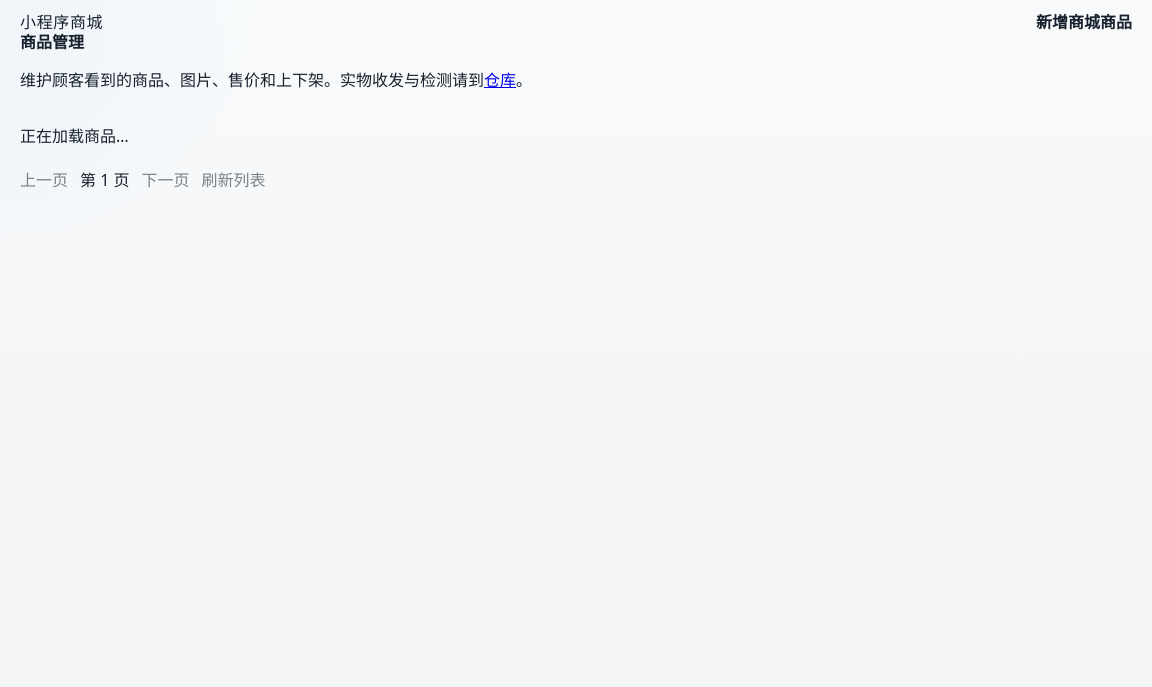
Scenario: 上架缺图给出提示，图片尺寸说明随上传控件显示
Click the button "新增商城商品" at x=1084, y=21, box [1036,9,1132,33]
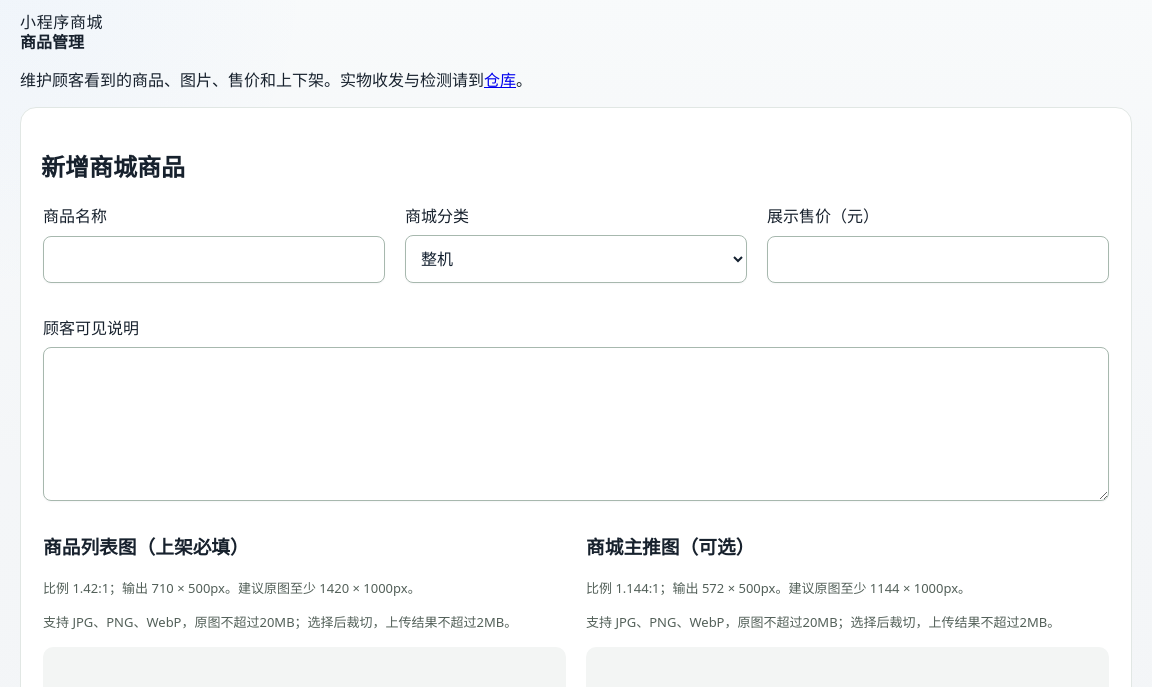
Type "样本显卡" into the field labelled "商品名称" at x=214, y=260, box [43,236,385,283]
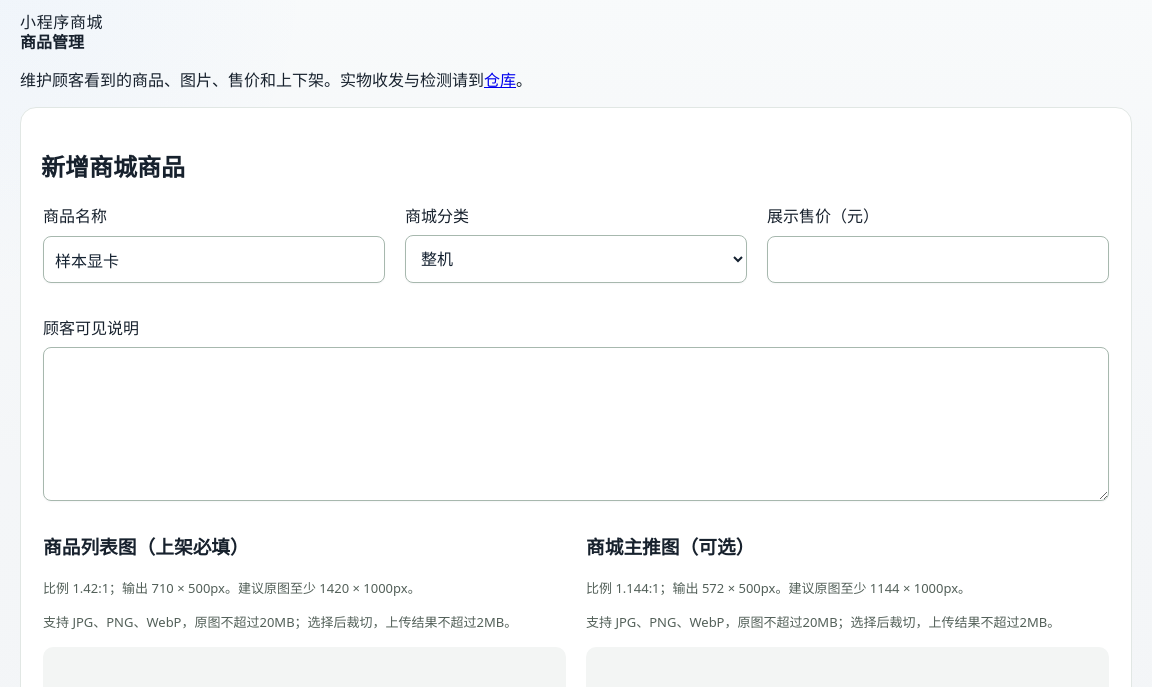
Type "0" into the field labelled "展示售价（元）" at x=938, y=260, box [767,236,1109,283]
(page scrolled)
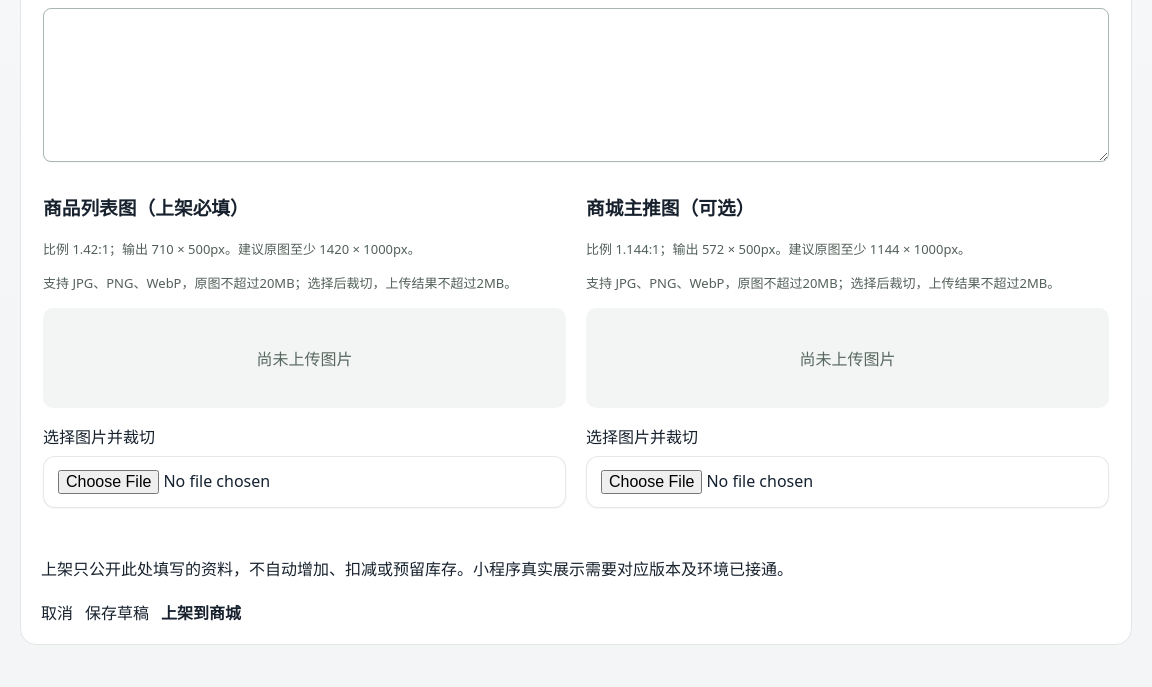
Click the button "上架到商城" at x=201, y=612, box [161,600,241,624]
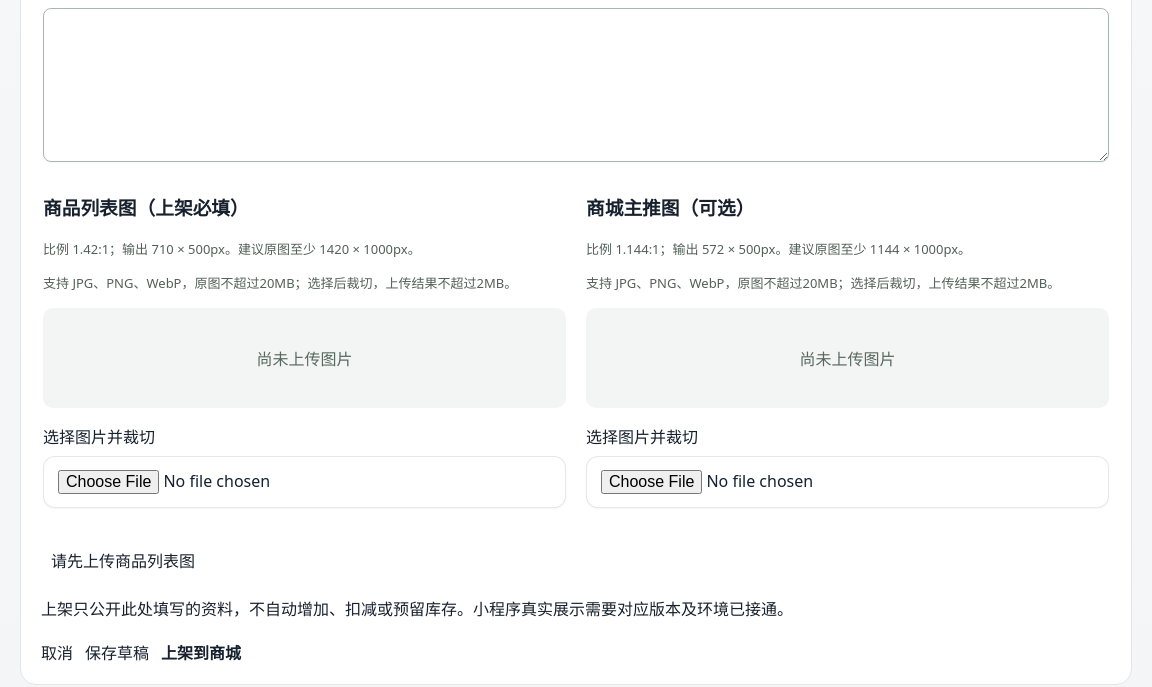
Expected: the text "比例 1.42:1；输出 710 × 500px。建议原图至少 1420 × 1000px。" is shown, [43,240,421,258]
Expected: the text "比例 1.144:1；输出 572 × 500px。建议原图至少 1144 × 1000px。" is shown, [586,240,971,258]
Expected: the message shows "先上传商品列表图", [51,550,195,572]
